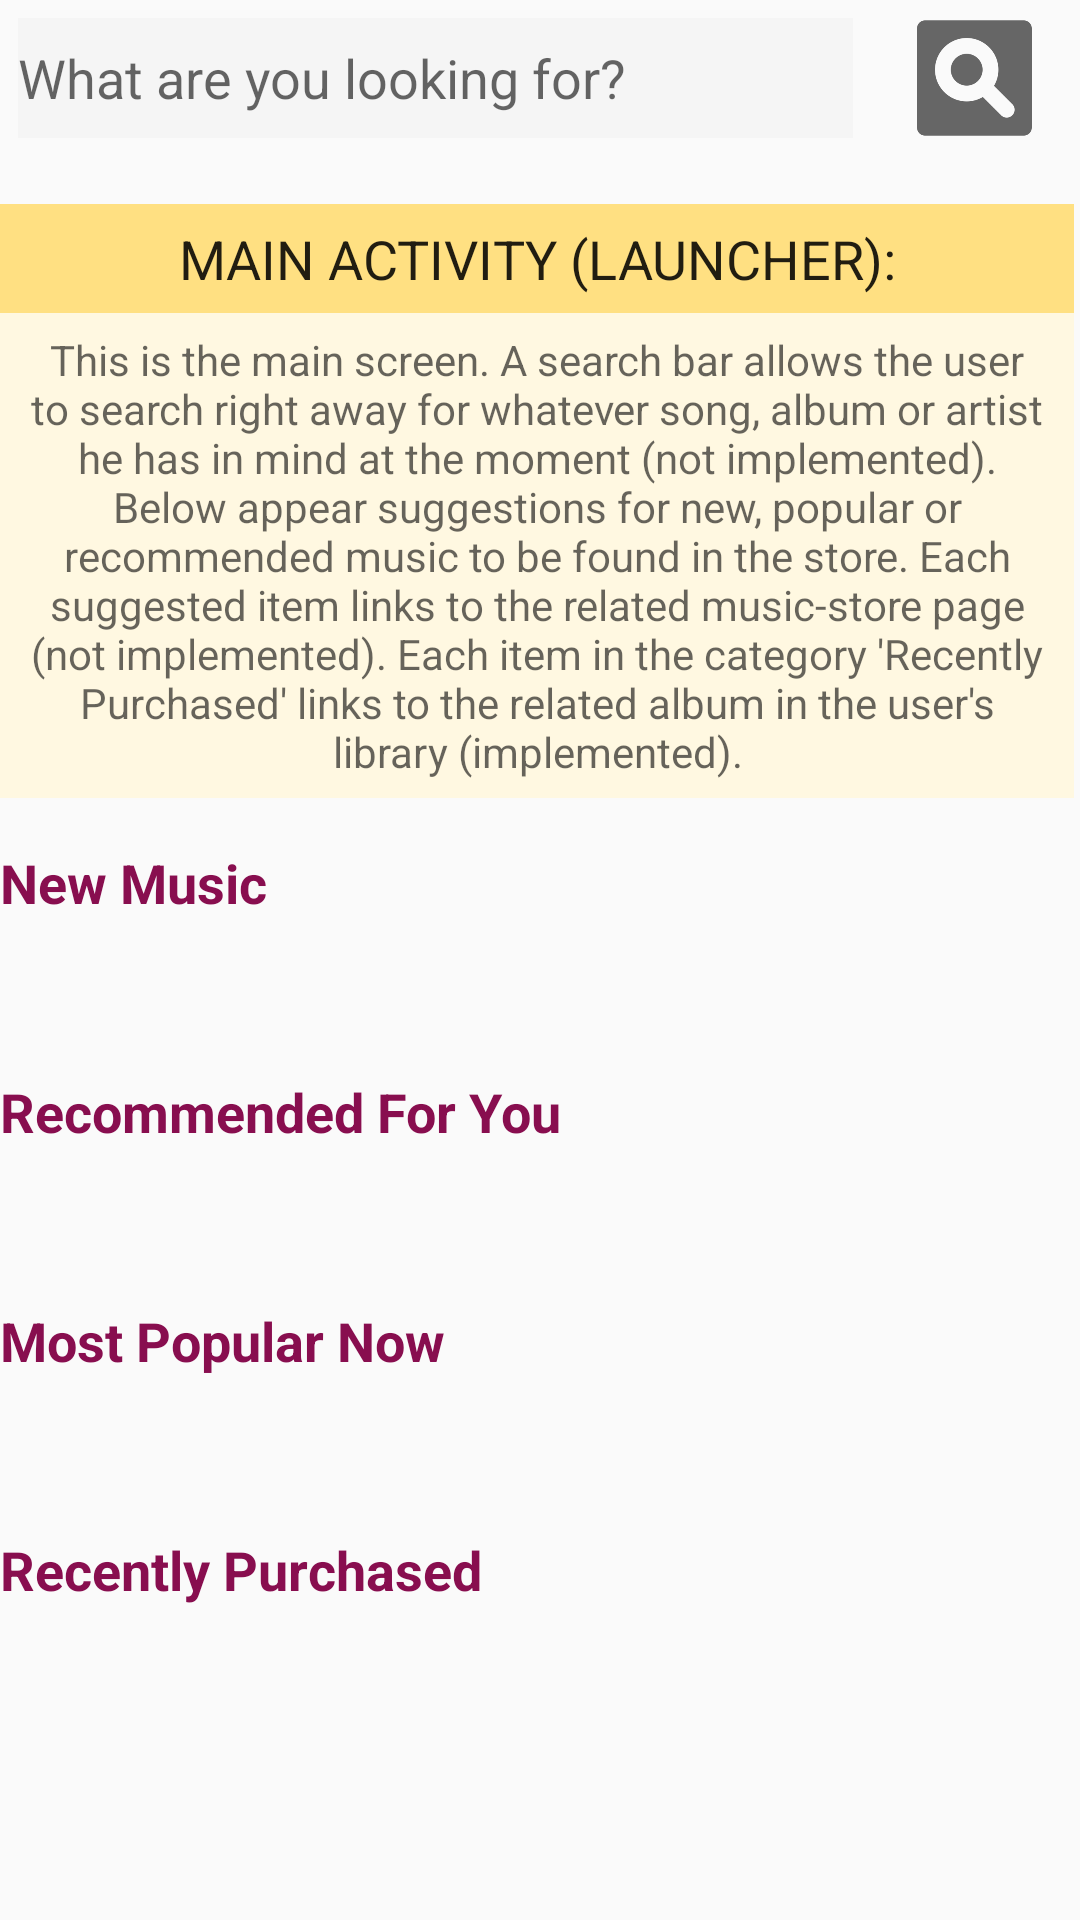

Locate icon controls on the screen. Image size 1080×1920, boxes as (x1, y1, x2, y2).
search: (917, 20, 1032, 136)
